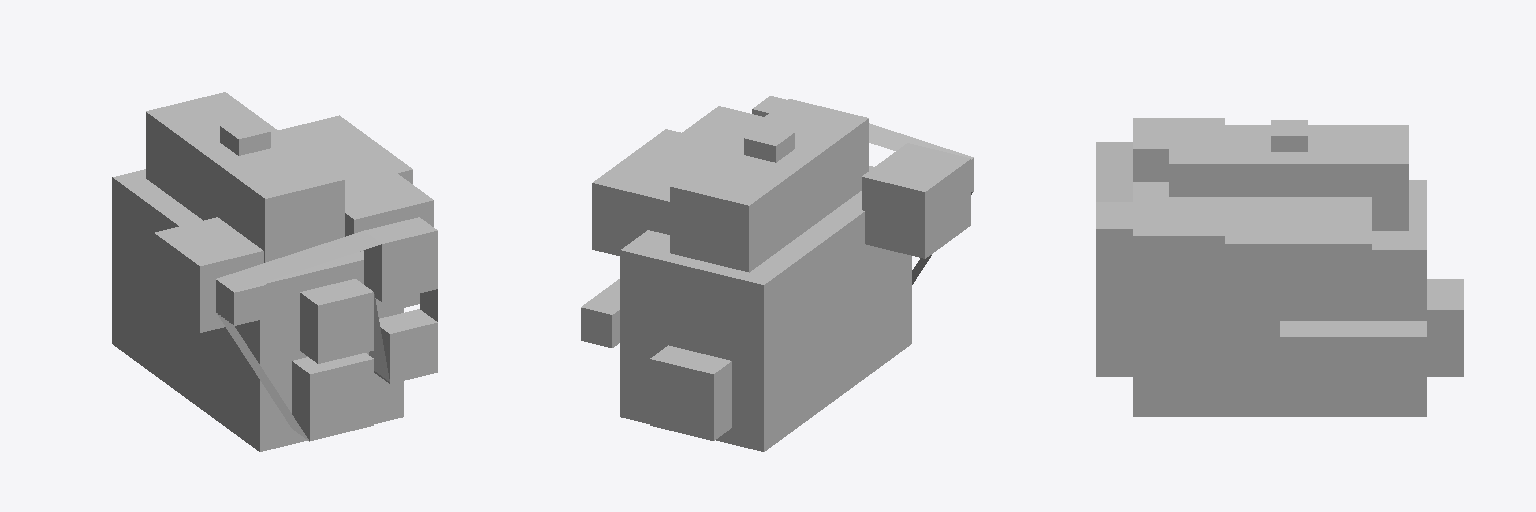
The model's file is engineamci4.obj.
The picture shows the model from 3 angles: view 1: azimuth 30°, elevation 25°; view 2: azimuth 150°, elevation 25°; view 3: azimuth 270°, elevation 25°; orthographic projection.
Parts seen in each view (by area): view 1: MainBlock, driveshaft, roller2, roller1, roller3, genroller; view 2: MainBlock, driveshaft; view 3: MainBlock, roller1, driveshaft, roller3.
Part boxes in pixels (x1,y1,x2,y2): MainBlock: (112,92,437,451); driveshaft: (292,353,373,440); roller2: (300,279,373,363); roller1: (364,217,437,302); roller3: (374,309,437,383); genroller: (216,279,265,325); MainBlock: (581,99,973,451); driveshaft: (650,345,731,440); MainBlock: (1096,118,1426,416); roller1: (1096,202,1150,286); driveshaft: (1096,279,1463,376); roller3: (1096,321,1132,370).
Size of the model in its own units: 1.02 by 0.9375 by 1.25.